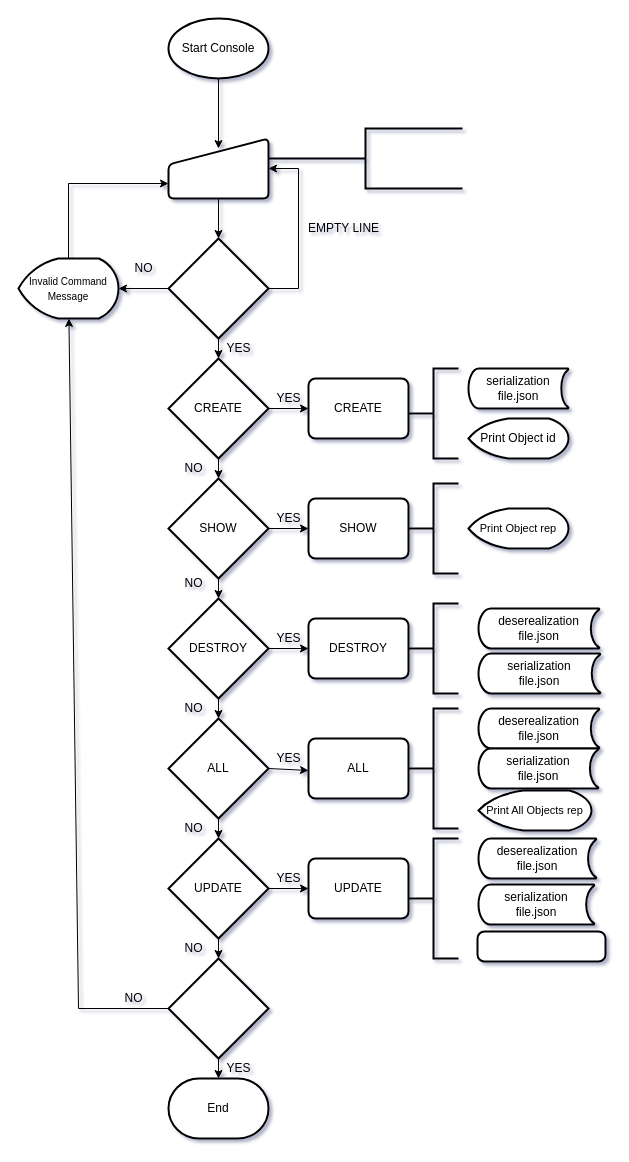
Some shapes in this 629 by 1162 pixel diagram are drawn without their labels. The box of each missing label's shape, as (x1, y1, x2, y2) in pixels:
Add/update Class /object attribs: (476, 930, 606, 962)
Command: (167, 137, 269, 199)
COMMAND, CLASS NAME, ID: (267, 127, 463, 189)
QUIT OR EOF: (167, 957, 269, 1059)
Valid ?: (167, 237, 269, 339)
